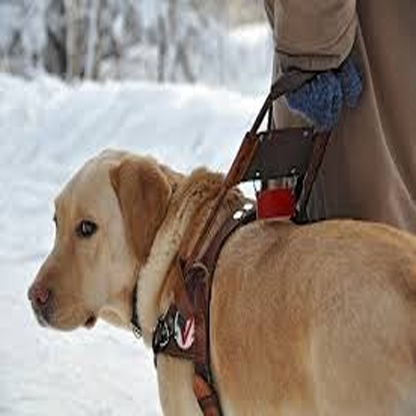guide-dog: (25, 145, 416, 416)
